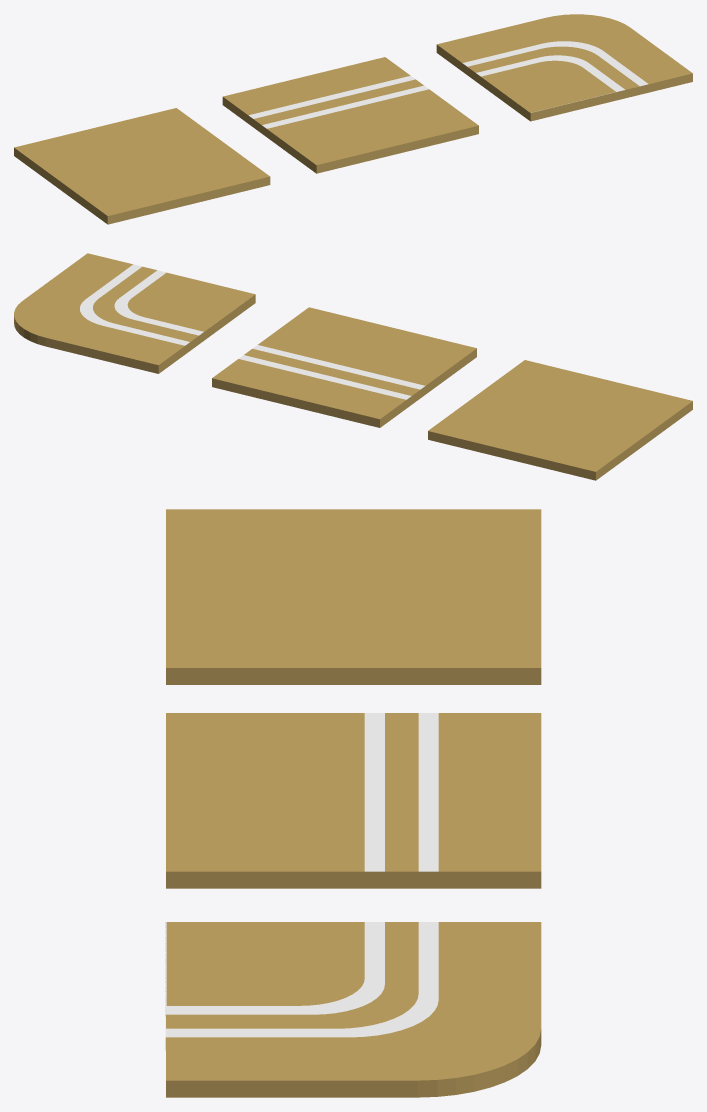
Rendered from tiles - Copia.fbx.
3 renders of one model, top to bottom at view 1: azimuth 30°, elevation 25°; view 2: azimuth 150°, elevation 25°; view 3: azimuth 270°, elevation 25°, orthographic. The views are drawn at different scales.
Visible parts, largest first — view 1: Plane, Plane.002, Plane.001, Plane.003; view 2: Plane, Plane.002, Plane.001, Plane.003; view 3: Plane, Plane.002, Plane.001, Plane.003.
Boxes of the visible parts, bbox=[...] form: Plane: bbox=[14, 108, 270, 224]; Plane.002: bbox=[436, 14, 692, 121]; Plane.001: bbox=[222, 57, 478, 173]; Plane.003: bbox=[249, 75, 428, 128]; Plane: bbox=[428, 360, 692, 480]; Plane.002: bbox=[14, 253, 255, 373]; Plane.001: bbox=[212, 307, 476, 427]; Plane.003: bbox=[239, 345, 425, 399]; Plane: bbox=[166, 509, 541, 684]; Plane.002: bbox=[165, 922, 541, 1097]; Plane.001: bbox=[166, 713, 541, 888]; Plane.003: bbox=[364, 713, 438, 871].
Size of the model in its own units: 360 by 5 by 100.
